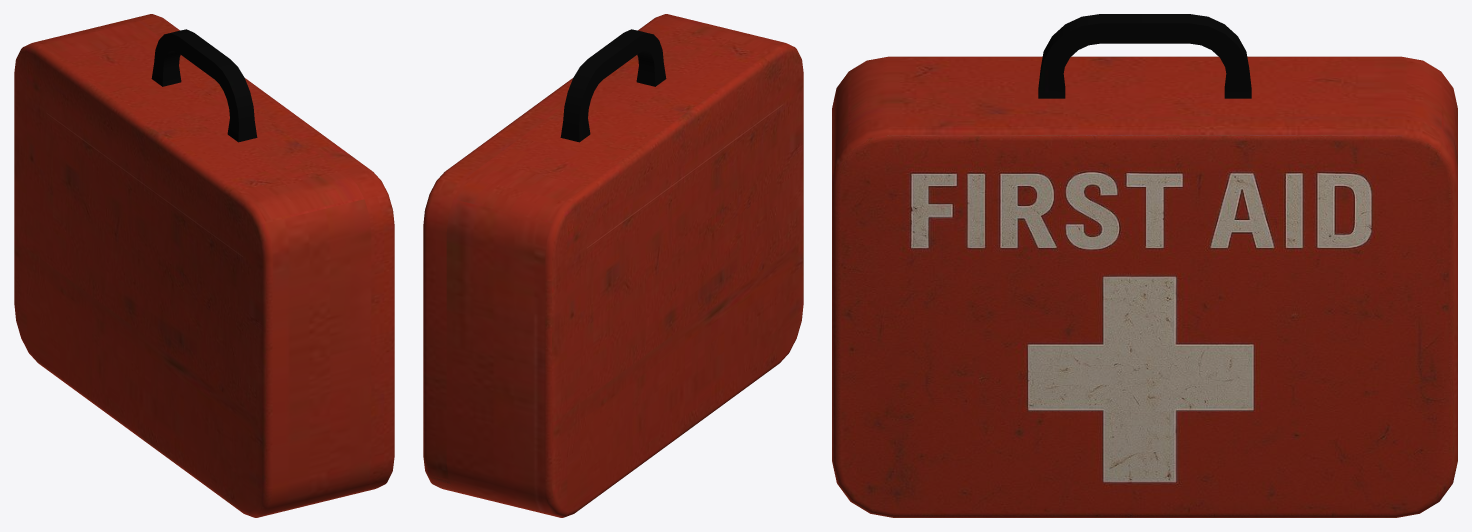
File: first_aid_kit.glb
3 renders of one model, left to right at view 1: azimuth 30°, elevation 25°; view 2: azimuth 150°, elevation 25°; view 3: azimuth 270°, elevation 25°, orthographic. The views are drawn at different scales.
Visible parts, largest first — view 1: first_aid_kit, cap; view 2: first_aid_kit, cap; view 3: cap, first_aid_kit.
Part boxes in pixels (left/top/right/bottom): first_aid_kit: left=14, top=19, right=371, bottom=517; cap: left=131, top=14, right=394, bottom=493; first_aid_kit: left=446, top=19, right=803, bottom=517; cap: left=423, top=14, right=686, bottom=493; cap: left=832, top=116, right=1457, bottom=517; first_aid_kit: left=832, top=14, right=1457, bottom=166.
Bounding box in the file's own units: 0.08 × 0.2195 × 0.2688.
1 material, 1 textured.
